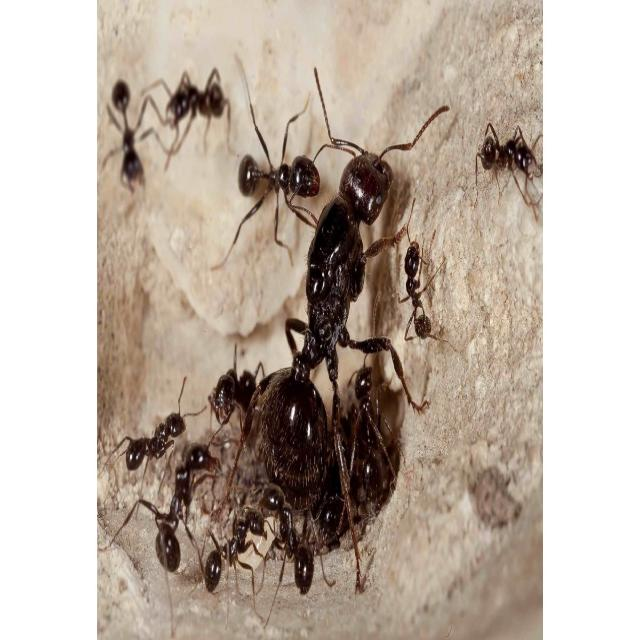ants: (258, 124, 412, 510), (147, 433, 225, 569), (255, 468, 326, 605), (226, 136, 327, 225), (116, 386, 194, 489), (463, 99, 541, 198), (344, 349, 392, 509), (197, 498, 271, 597), (150, 66, 232, 152), (390, 213, 438, 353), (102, 70, 154, 197), (207, 348, 266, 439)
